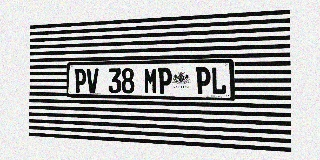3: (108, 68, 121, 93)
8: (121, 68, 134, 93)
L: (211, 67, 226, 95)
M: (144, 68, 157, 94)
P: (196, 67, 211, 94), (158, 67, 172, 94), (74, 69, 86, 93)
V: (86, 68, 99, 93)
